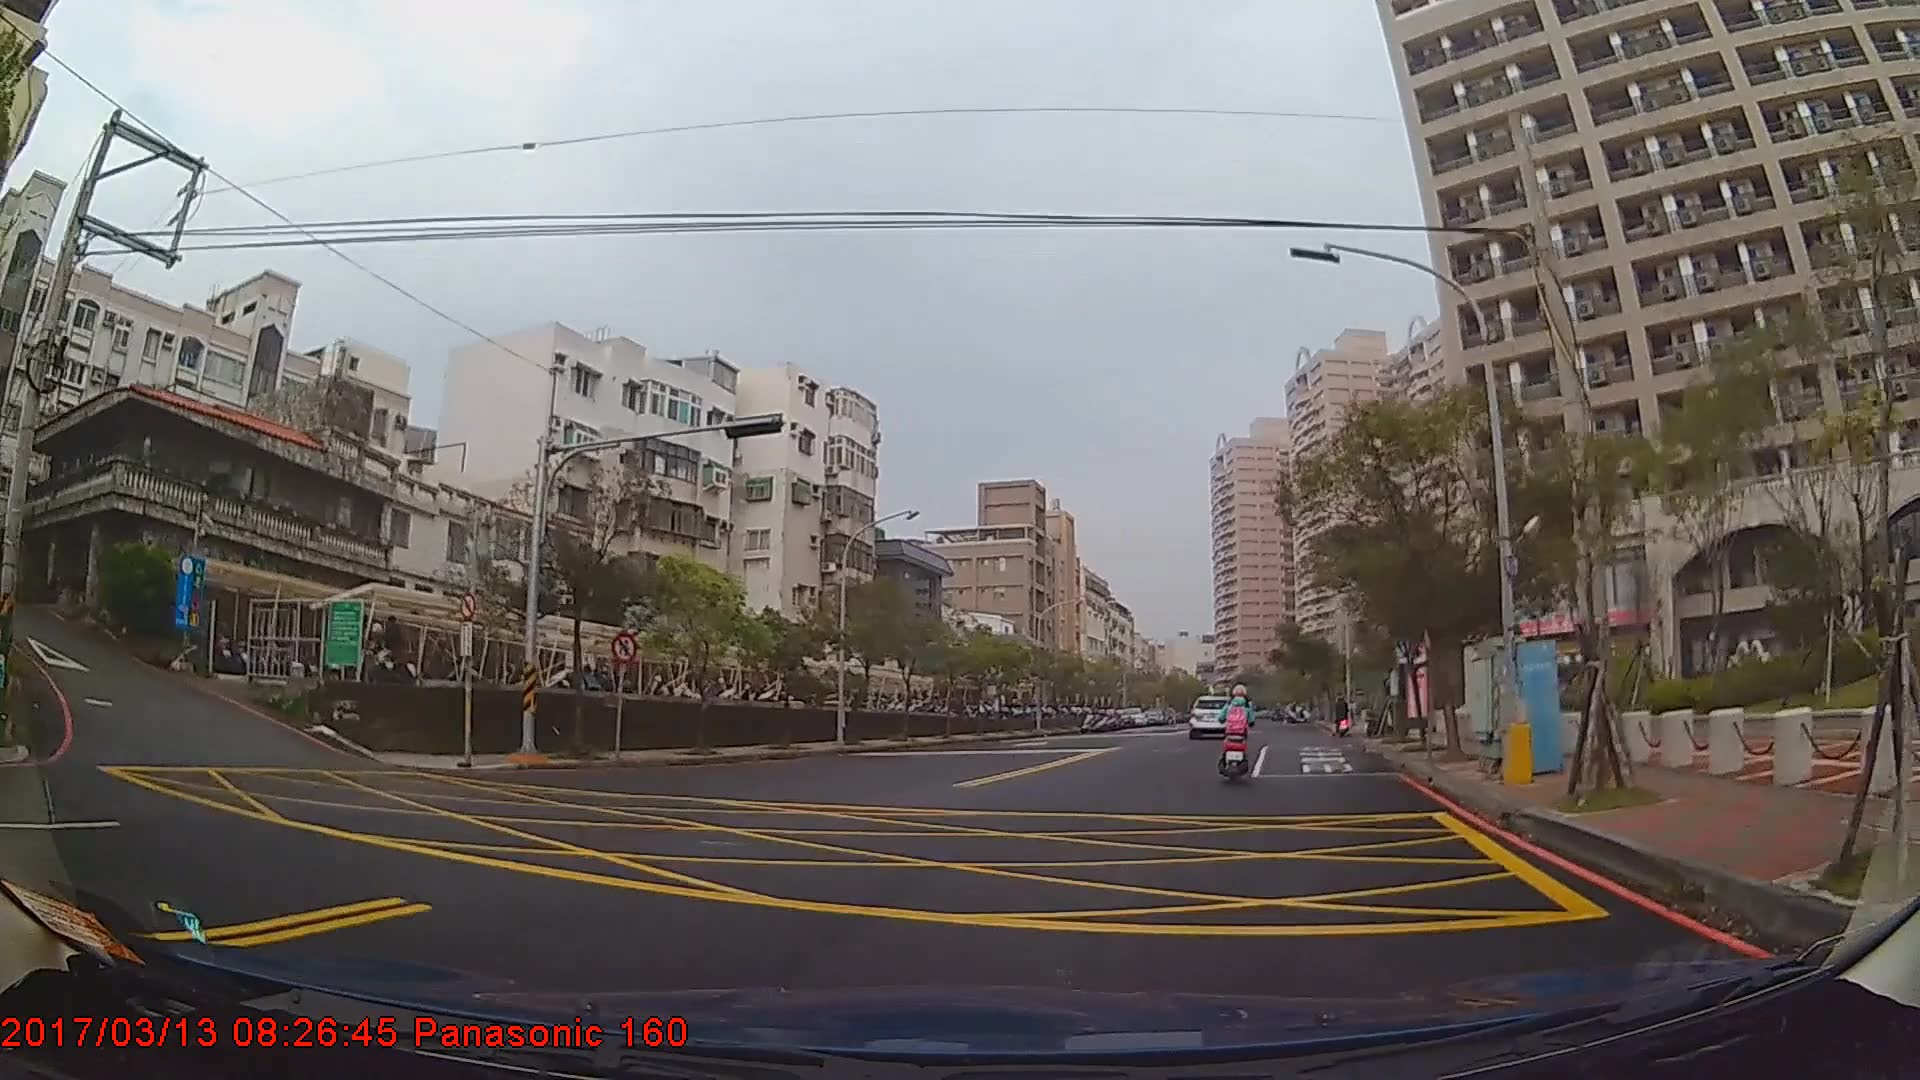rider: (1215, 681, 1261, 783)
vehicle: (1187, 691, 1232, 737)
